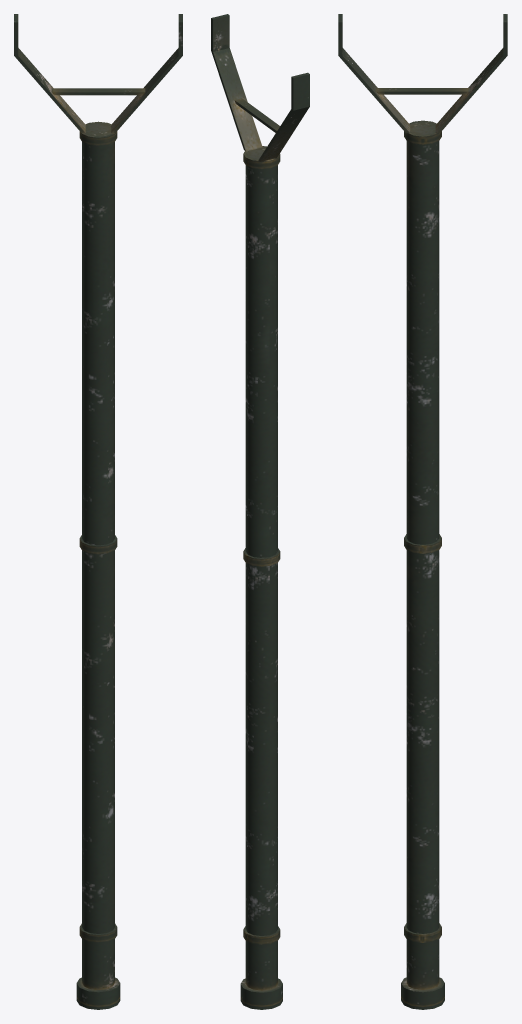
Rendered from SM_Fence_Exterior_Pole.fbx.
3 renders of one model, left to right at view 1: azimuth 90°, elevation 25°; view 2: azimuth 210°, elevation 25°; view 3: azimuth 270°, elevation 25°, orthographic. The views are drawn at different scales.
Visible parts, largest first — view 1: SM_Fence_Exterior_Pole; view 2: SM_Fence_Exterior_Pole; view 3: SM_Fence_Exterior_Pole.
Part boxes in pixels (x1=…): SM_Fence_Exterior_Pole: x1=14, y1=14, x2=182, y2=1009; SM_Fence_Exterior_Pole: x1=211, y1=14, x2=309, y2=1009; SM_Fence_Exterior_Pole: x1=338, y1=14, x2=507, y2=1009.
Size of the model in its own units: 15.92 by 61.5 by 395.
1 material, 1 textured.
